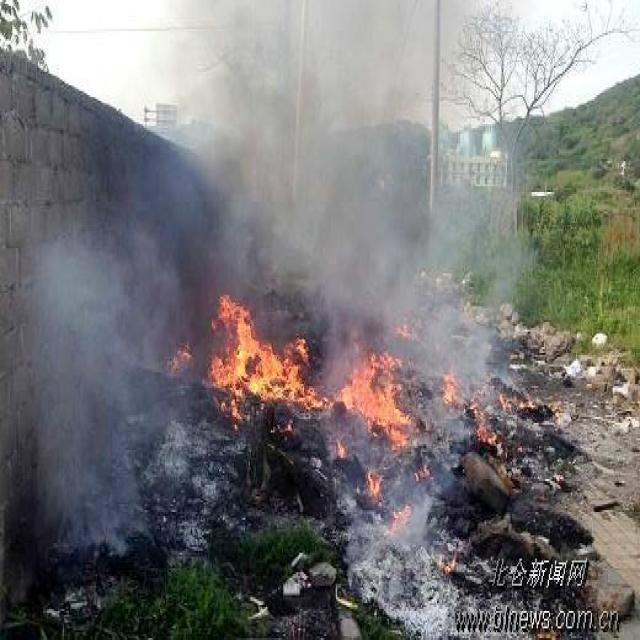Fire: (179, 296, 415, 446)
Smoke: (213, 0, 430, 296), (34, 252, 149, 557), (416, 172, 522, 404)
